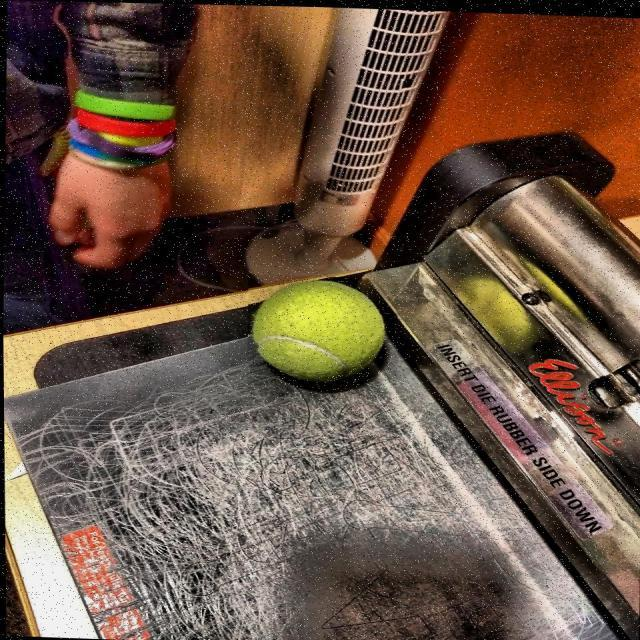tennis-ball: (246, 273, 398, 399)
